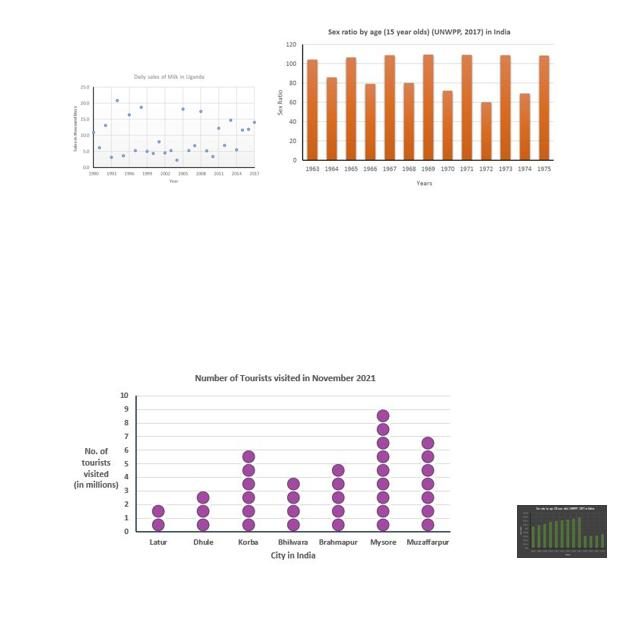Graph: (67, 369, 452, 566), (269, 19, 571, 193), (70, 72, 261, 189), (517, 505, 607, 558)
